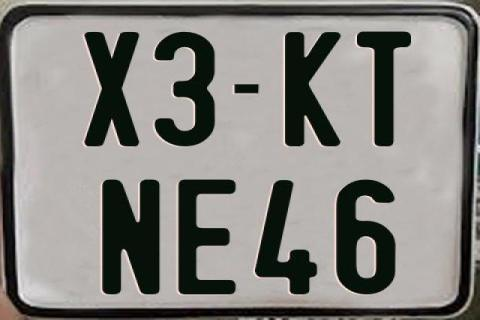0: (154, 30, 219, 146), (333, 178, 393, 298), (255, 179, 318, 293)
E: (178, 178, 242, 298)
K: (284, 32, 344, 150)
N: (101, 178, 160, 298)
T: (356, 29, 416, 145)
X: (84, 31, 141, 146)
